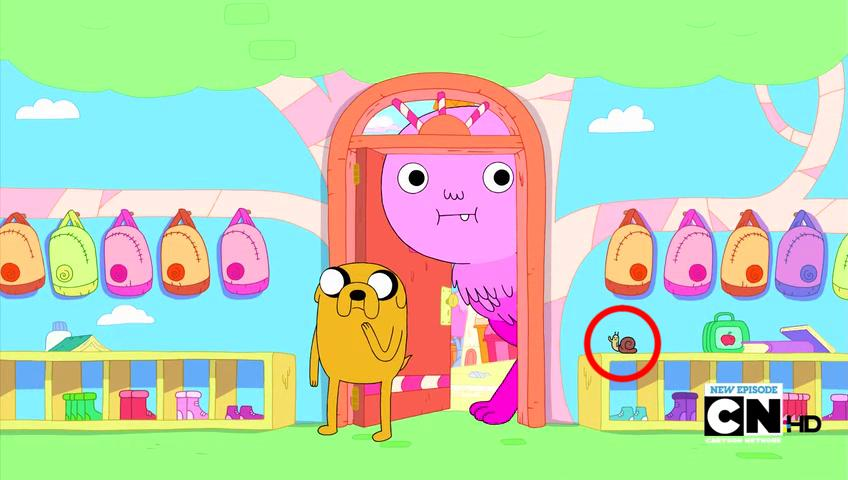snail: (606, 330, 639, 354)
